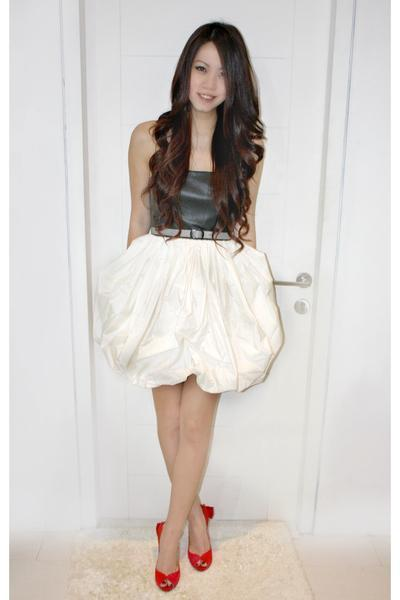shirt: (148, 170, 248, 248)
shoe: (155, 504, 213, 587)
skirt: (110, 226, 275, 392)
